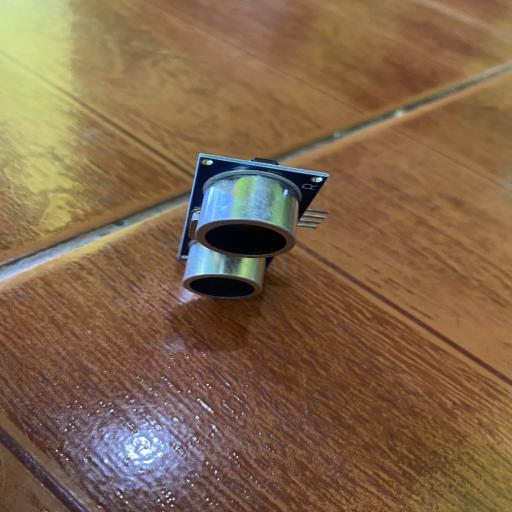Ultrasonic Sensor: (176, 148, 332, 302)
